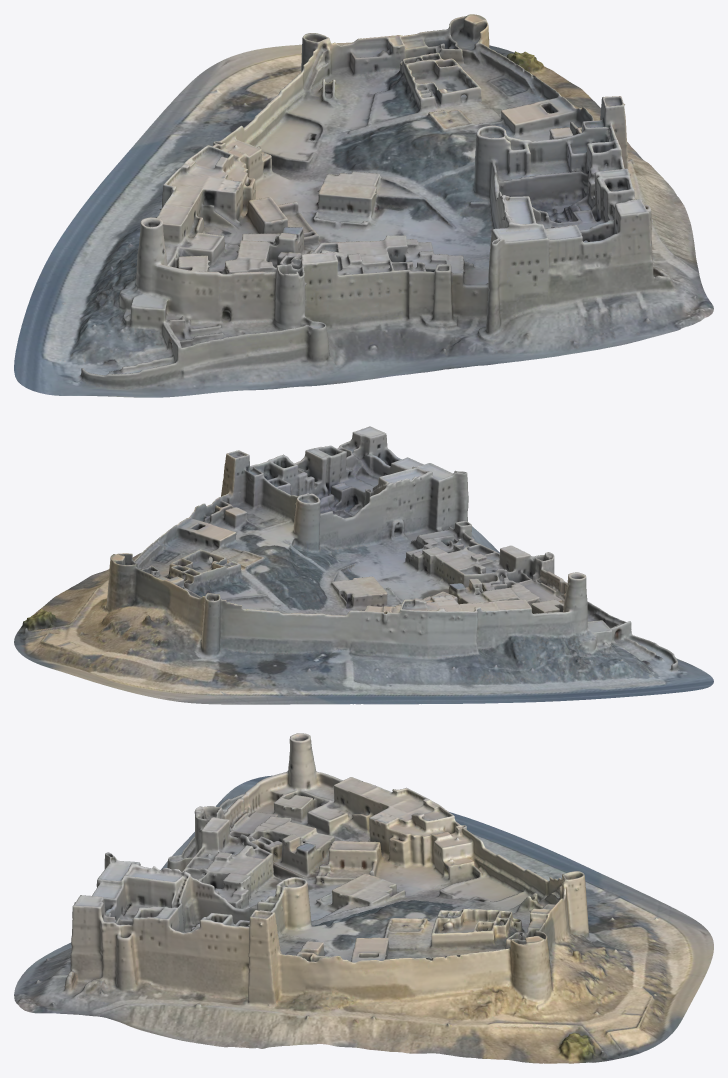
The picture shows the model from 3 angles, top to bottom: view 1: azimuth 30°, elevation 25°; view 2: azimuth 150°, elevation 25°; view 3: azimuth 270°, elevation 25°; orthographic projection. The views are drawn at different scales.
Parts seen in each view (by area): view 1: OMN_001_M1_BahlaFort_LP; view 2: OMN_001_M1_BahlaFort_LP; view 3: OMN_001_M1_BahlaFort_LP.
Boxes of the visible parts, x1=… form: OMN_001_M1_BahlaFort_LP: x1=14, y1=14, x2=713, y2=397; OMN_001_M1_BahlaFort_LP: x1=14, y1=426, x2=713, y2=704; OMN_001_M1_BahlaFort_LP: x1=14, y1=733, x2=713, y2=1063.
Size of the model in its own units: 182 by 38.27 by 169.
Materials: 1 (1 with a texture image).
